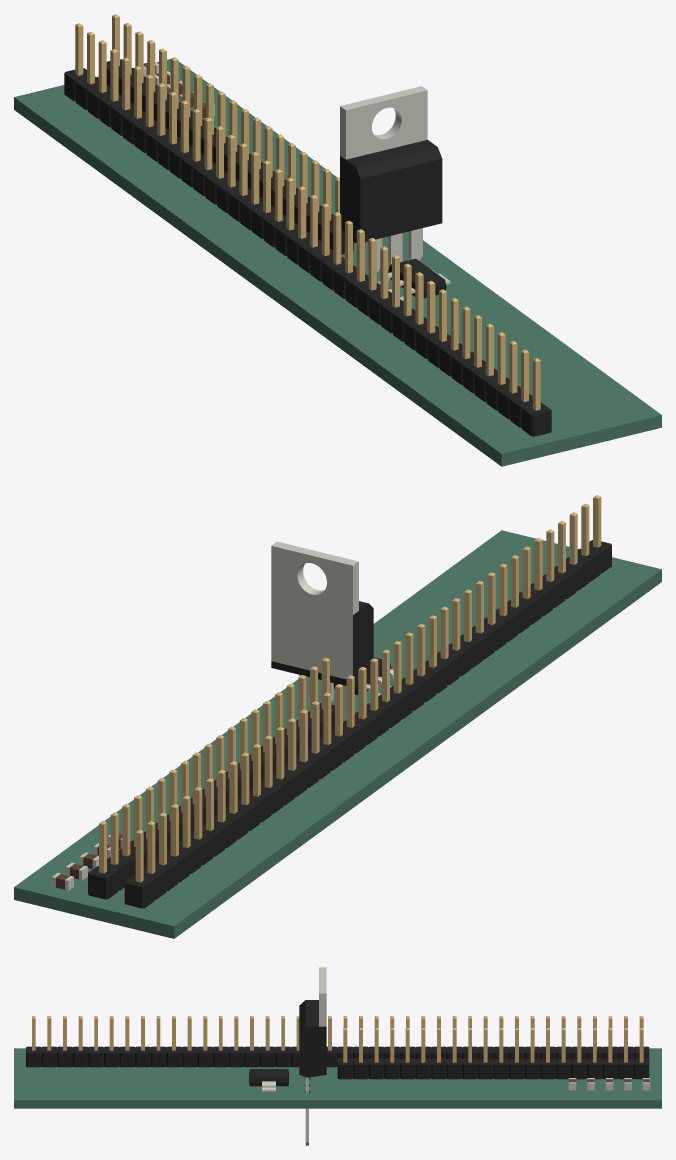
Rendered from board_3d.glb.
3 views of the same model, one above another, from view 1: azimuth 30°, elevation 25°; view 2: azimuth 150°, elevation 25°; view 3: azimuth 270°, elevation 25° (orthographic). The views are drawn at different scales.
Visible parts, largest first — view 1: =>[0:1:1:7], J1, U1, J2, U2; view 2: =>[0:1:1:7], J1, U1, J2; view 3: =>[0:1:1:7], J1, J2, U1, U2.
Boxes of the visible parts, x1,y1,x2,y2 form: =>[0:1:1:7]: (14, 59, 661, 466); J1: (64, 23, 551, 436); U1: (340, 86, 442, 271); J2: (106, 14, 353, 254); U2: (377, 258, 450, 301); =>[0:1:1:7]: (14, 530, 661, 938); J1: (124, 495, 611, 908); U1: (271, 541, 373, 709); J2: (88, 658, 334, 899); =>[0:1:1:7]: (14, 1048, 661, 1108); J1: (26, 1016, 649, 1067); J2: (337, 1028, 649, 1079); U1: (299, 967, 326, 1145); U2: (249, 1069, 288, 1091).
Size of the model in its own units: 0.02 by 0.0285 by 0.1056.
